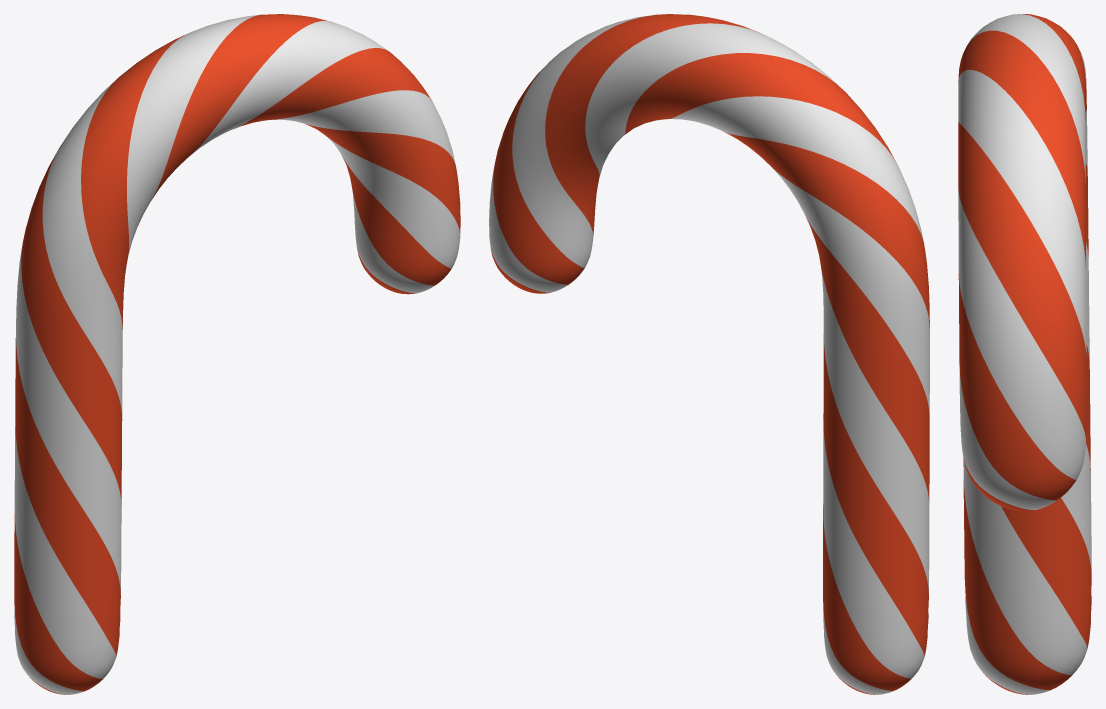
File: candy.fbx
3 views of the same model, side by side, from view 1: azimuth 30°, elevation 25°; view 2: azimuth 150°, elevation 25°; view 3: azimuth 270°, elevation 25° (orthographic). The views are drawn at different scales.
Visible parts, largest first — view 1: Circle; view 2: Circle; view 3: Circle.
Boxes of the visible parts, x1=… form: Circle: x1=14, y1=14, x2=460, y2=694; Circle: x1=489, y1=14, x2=929, y2=694; Circle: x1=958, y1=14, x2=1091, y2=694.
Size of the model in its own units: 254 by 355 by 57.46.
